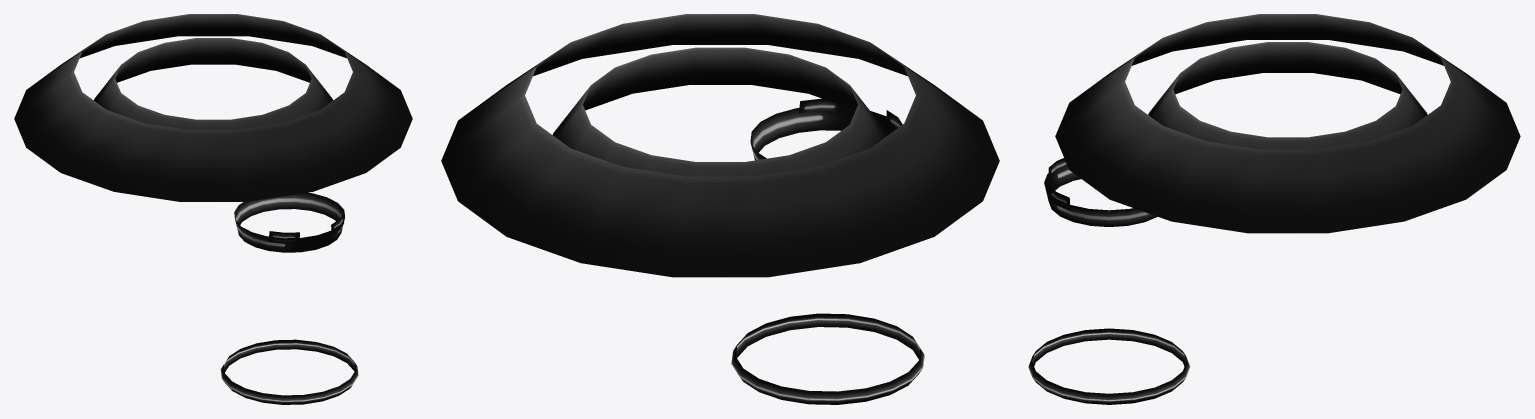
The picture shows the model from 3 angles, left to right: view 1: azimuth 30°, elevation 25°; view 2: azimuth 150°, elevation 25°; view 3: azimuth 270°, elevation 25°; orthographic projection. The views are drawn at different scales.
Visible parts, largest first — view 1: tp_gg001; view 2: tp_gg001; view 3: tp_gg001.
Part boxes in pixels (x1=…): tp_gg001: x1=14, y1=14, x2=412, y2=404; tp_gg001: x1=441, y1=14, x2=999, y2=404; tp_gg001: x1=1028, y1=14, x2=1520, y2=404.
Size of the model in its own units: 6.2 by 4.34 by 6.66.
Materials: 1 (1 with a texture image).
